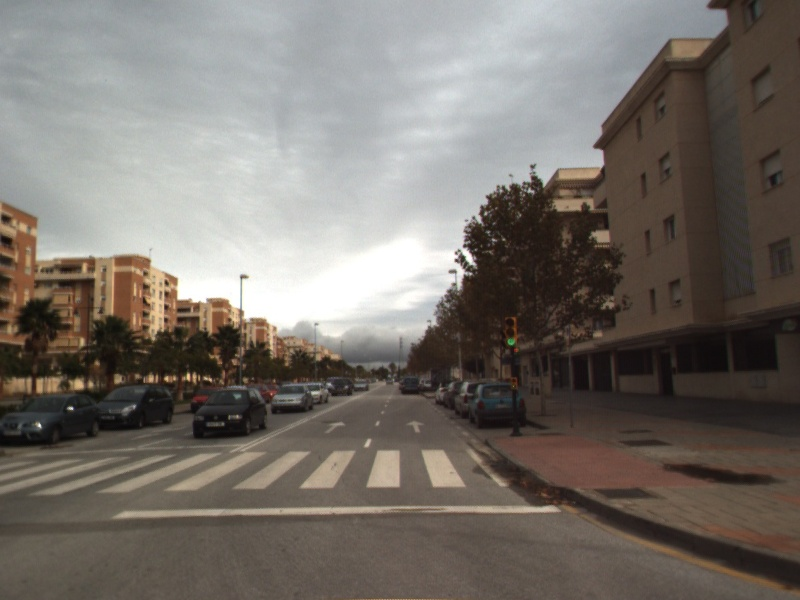STRAIGHT: (322, 419, 348, 435), (404, 418, 427, 435)
